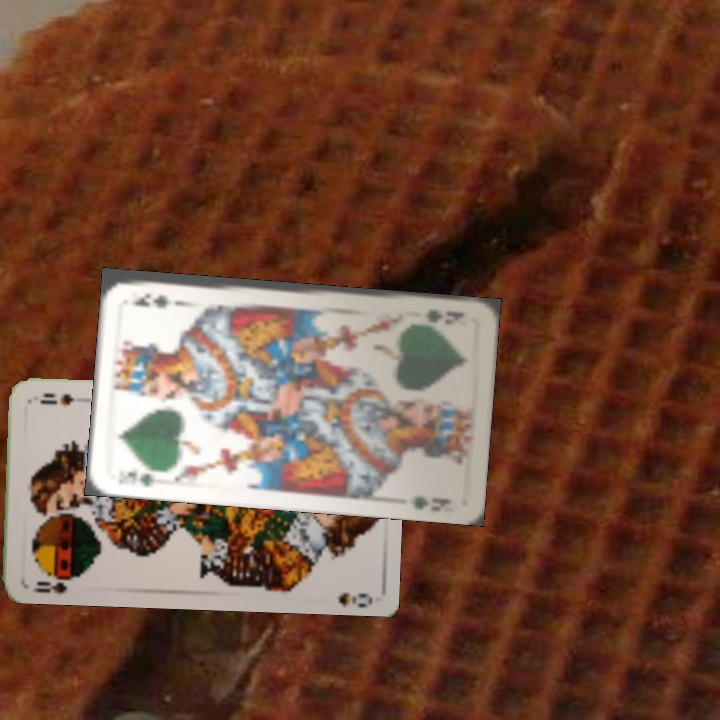GK: (114, 463, 159, 489), (419, 305, 468, 327)
SO: (29, 569, 84, 596)
